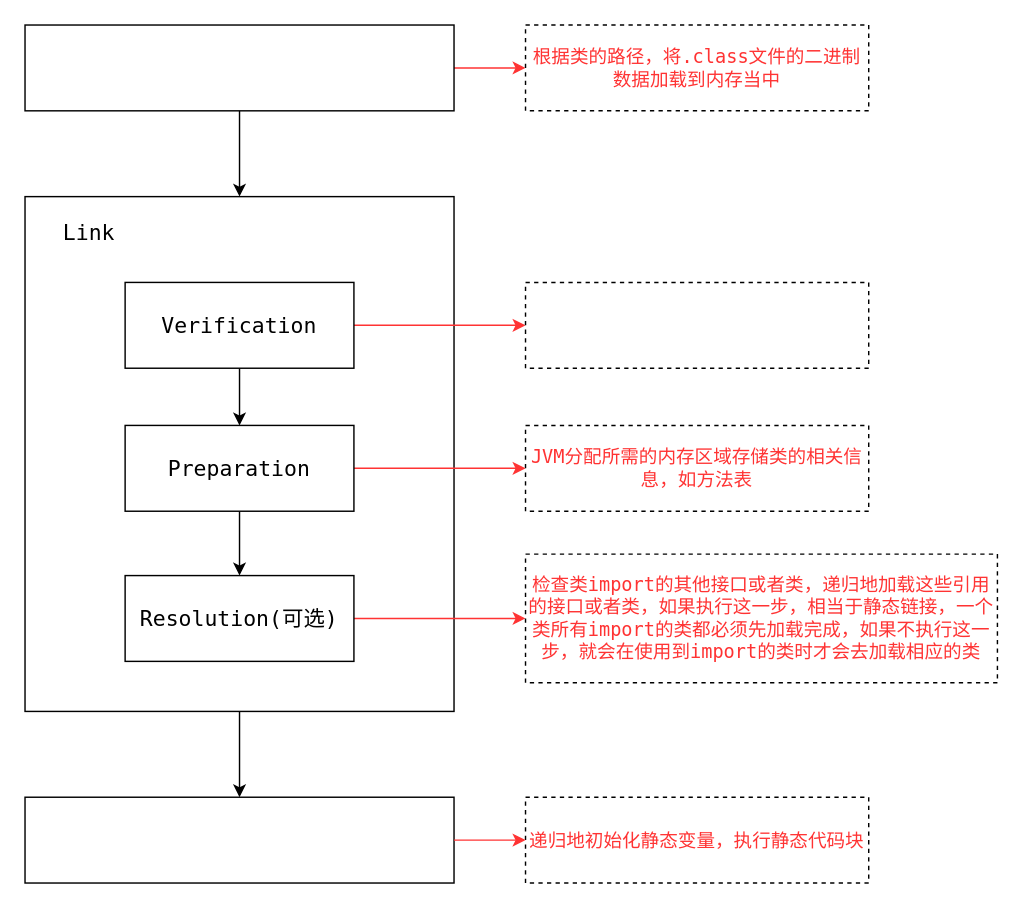
Image size: 1022x908. Some labels were removed from this diagram. The box of each missing label's shape, as (x1, y1, x2, y2) in pixels:
Initialize: (24, 796, 454, 883)
Load Class: (24, 24, 454, 111)
验证.class二进制数据格式: (524, 281, 869, 368)
